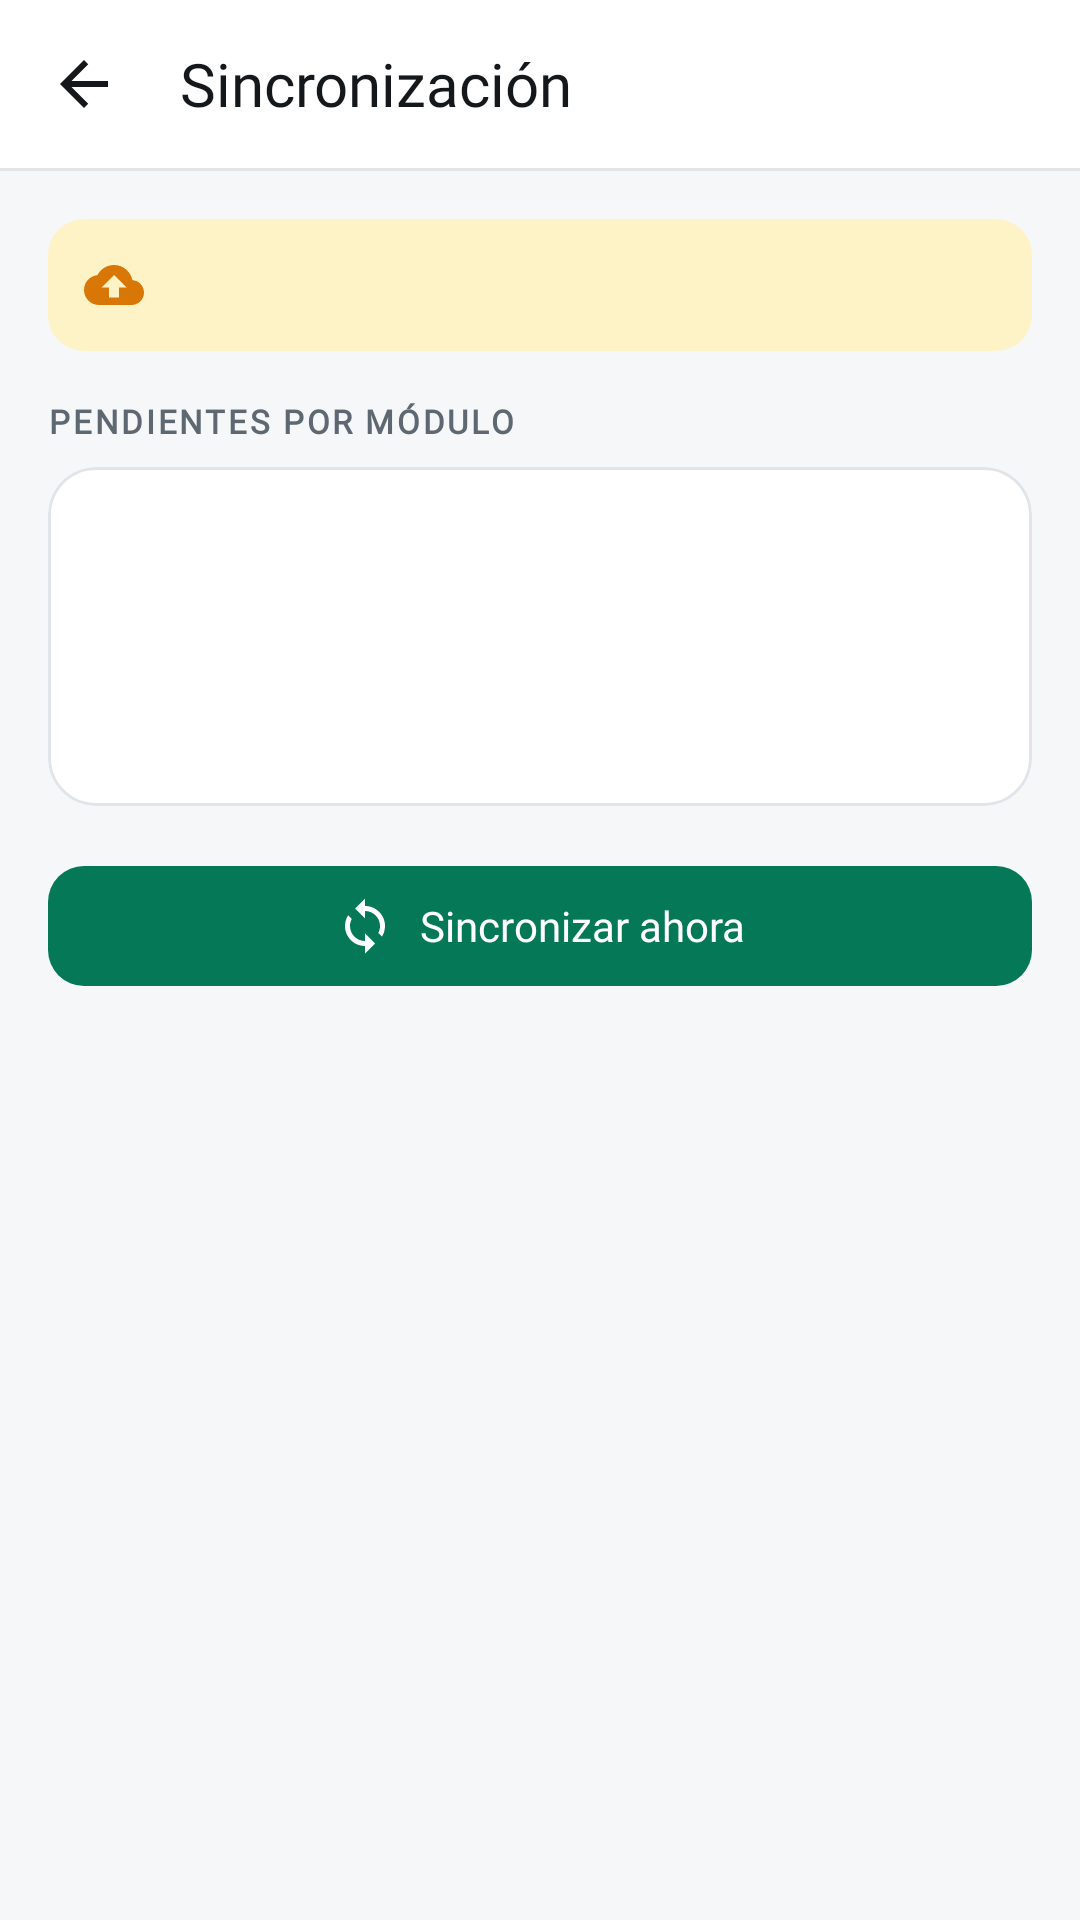

Icons on this 1080 × 1920 Android screen, each with its box as bbox=(x1, y1, x2, y2):
cloud upload: bbox=(84, 265, 144, 305)
